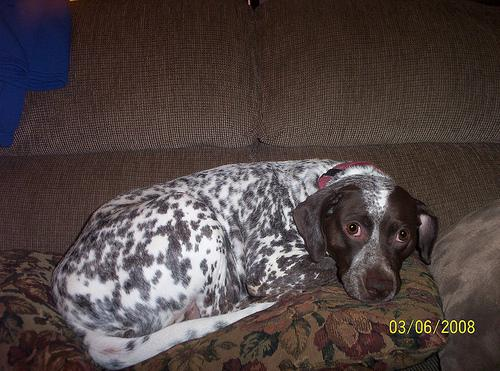dog-german_shorthaired: (291, 174, 438, 301)
